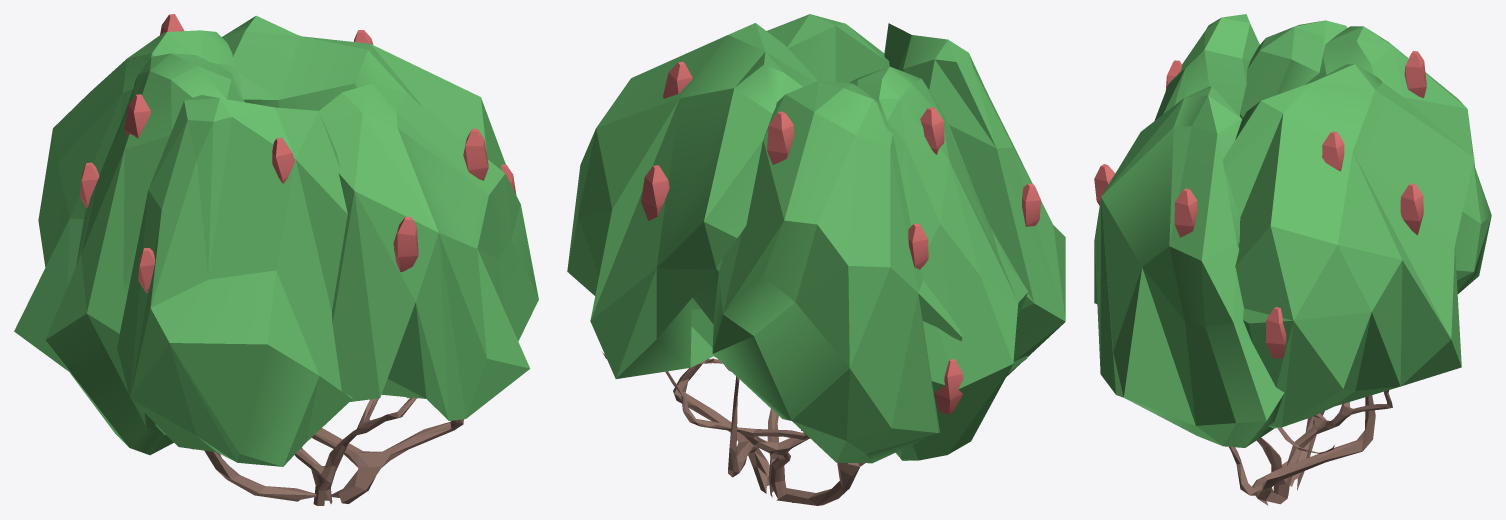
The model's file is bush_003.glb.
3 views of the same model, side by side, from view 1: azimuth 30°, elevation 25°; view 2: azimuth 150°, elevation 25°; view 3: azimuth 270°, elevation 25° (orthographic). The views are drawn at different scales.
Parts seen in each view (by area): view 1: bush_003; view 2: bush_003; view 3: bush_003.
Boxes of the visible parts, x1,y1,x2,y2 form: bush_003: (14,14,538,505); bush_003: (567,14,1065,505); bush_003: (1094,14,1491,505).
Size of the model in its own units: 1.46 by 1.41 by 1.2.
1 material, 1 textured.
